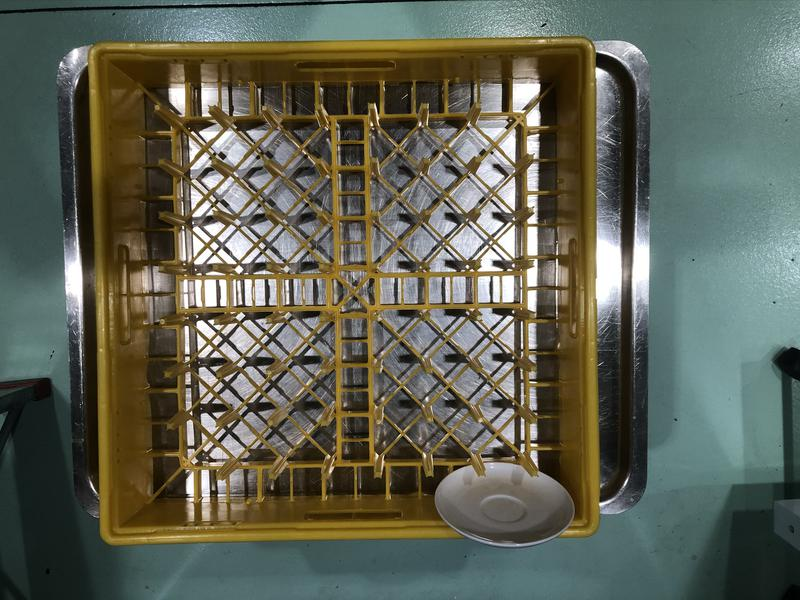Dish: (435, 460, 575, 547)
